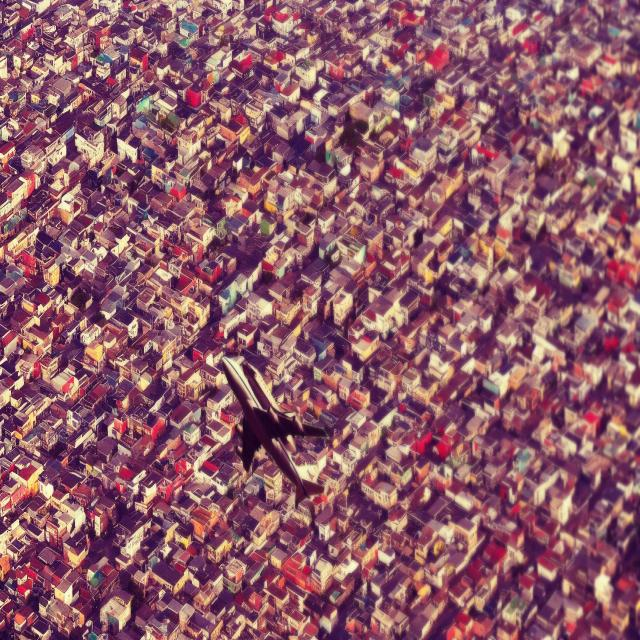airplane: (221, 353, 309, 506)
